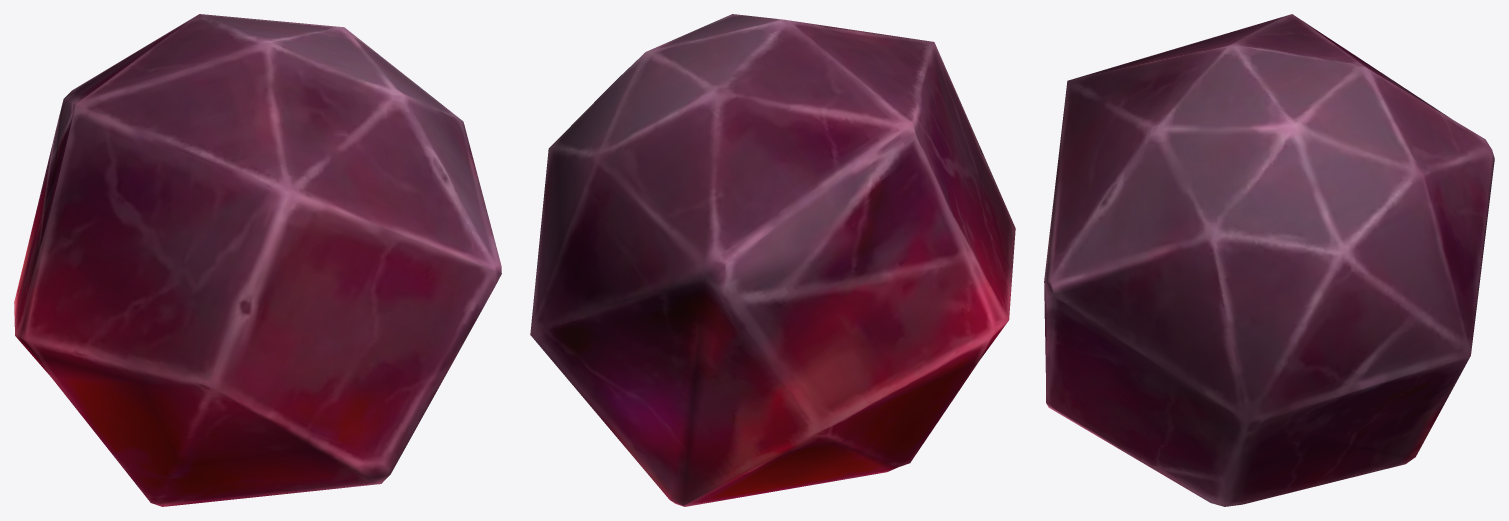
3 views of the same model, side by side, from view 1: azimuth 30°, elevation 25°; view 2: azimuth 150°, elevation 25°; view 3: azimuth 270°, elevation 25° (orthographic). The views are drawn at different scales.
Parts seen in each view (by area): view 1: SM_Crystal_01_LOD0; view 2: SM_Crystal_01_LOD0; view 3: SM_Crystal_01_LOD0.
Boxes of the visible parts, x1=… form: SM_Crystal_01_LOD0: x1=14, y1=14, x2=501, y2=506; SM_Crystal_01_LOD0: x1=530, y1=14, x2=1015, y2=506; SM_Crystal_01_LOD0: x1=1044, y1=14, x2=1494, y2=506.
Bounding box in the file's own units: 0.2334 × 0.2083 × 0.2068.
Materials: 1 (1 with a texture image).
